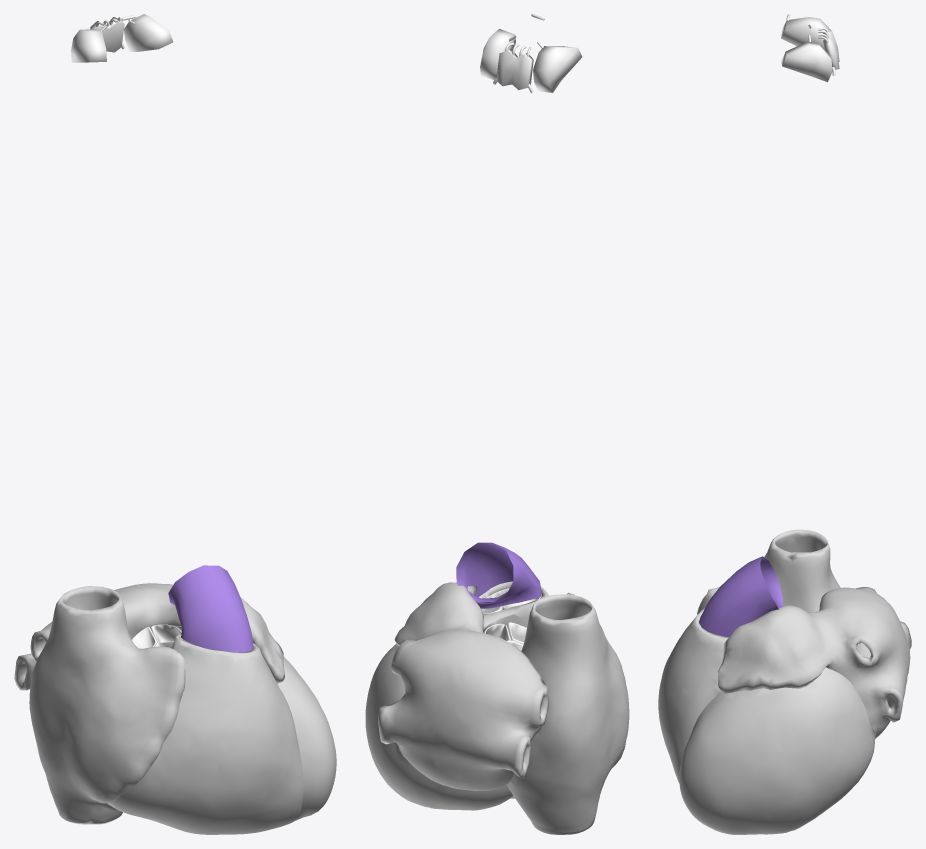
The model's file is anatomy_vascular.glb.
3 views of the same model, side by side, from view 1: azimuth 30°, elevation 25°; view 2: azimuth 150°, elevation 25°; view 3: azimuth 270°, elevation 25° (orthographic). The views are drawn at different scales.
Parts seen in each view (by area): view 1: Right atrium, Right ventricle, Pulmonary trunk, Left atrium, Left ventricle, Cavernous sinus.l, Cavernous sinus.r, Basilar venous plexus; view 2: Left atrium, Right atrium, Left ventricle, Pulmonary trunk, Cavernous sinus.r, Basilar venous plexus, Cavernous sinus.l, Right ventricle; view 3: Left ventricle, Left atrium, Right ventricle, Right atrium, Pulmonary trunk, Cavernous sinus.l, Cavernous sinus.r, Basilar venous plexus.
Boxes of the visible parts, x1,y1,x2,y2 form: Right atrium: (29, 586, 185, 824); Right ventricle: (107, 634, 303, 834); Pulmonary trunk: (168, 565, 253, 652); Left atrium: (14, 583, 284, 690); Left ventricle: (176, 626, 336, 819); Cavernous sinus.l: (124, 14, 173, 51); Cavernous sinus.r: (71, 25, 106, 62); Basilar venous plexus: (90, 17, 124, 52); Left atrium: (378, 582, 548, 790); Right atrium: (507, 592, 629, 834); Left ventricle: (365, 614, 527, 810); Pulmonary trunk: (456, 542, 541, 608); Cavernous sinus.r: (533, 41, 582, 92); Basilar venous plexus: (493, 42, 533, 93); Cavernous sinus.l: (480, 28, 516, 79); Right ventricle: (479, 581, 548, 798); Left ventricle: (679, 667, 875, 834); Left atrium: (718, 587, 911, 738); Right ventricle: (658, 608, 728, 783); Right atrium: (697, 529, 840, 614); Pulmonary trunk: (699, 556, 783, 637); Cavernous sinus.l: (781, 35, 832, 82); Cavernous sinus.r: (781, 17, 831, 49); Basilar venous plexus: (818, 27, 839, 75).
Bounding box in the file's own units: 0.1192 × 0.3739 × 0.1129.
